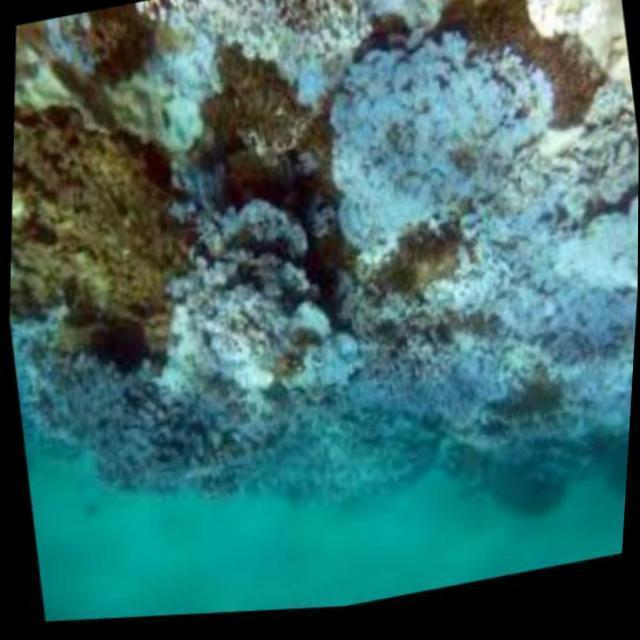Dead Coral: (120, 182, 340, 446)
